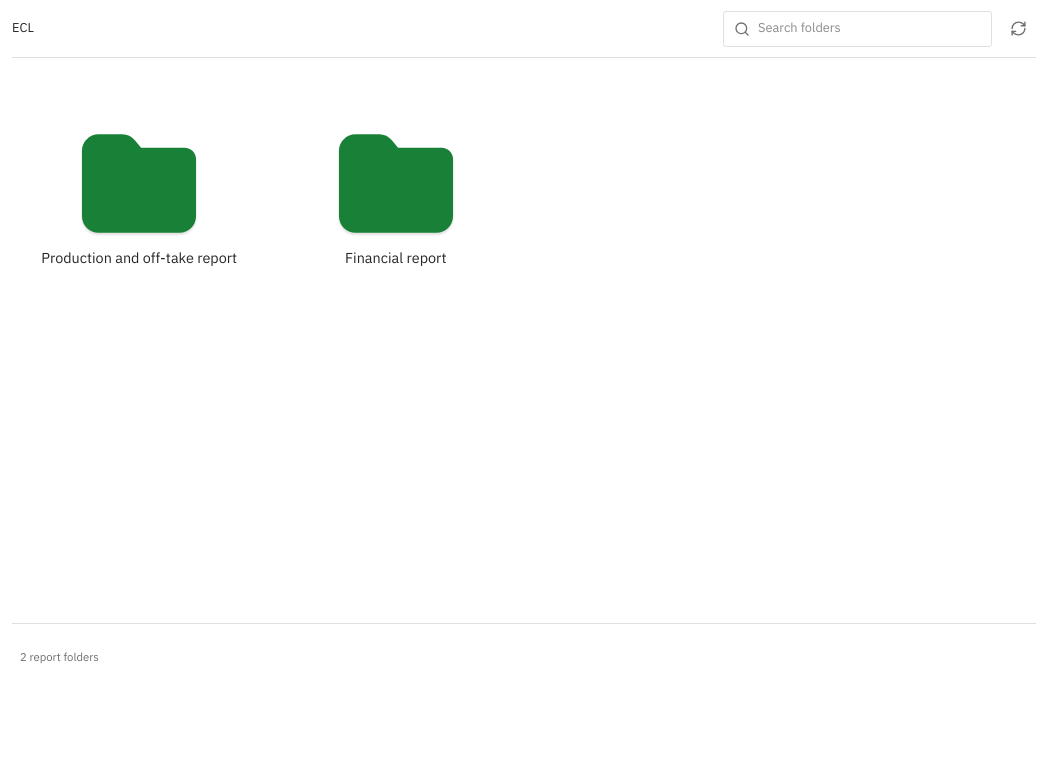
Test: version control expands files and filters by reporting cycle
The image size is (1048, 768).
Click the button "Production and off-take report": (139, 197) [20, 92, 258, 302]
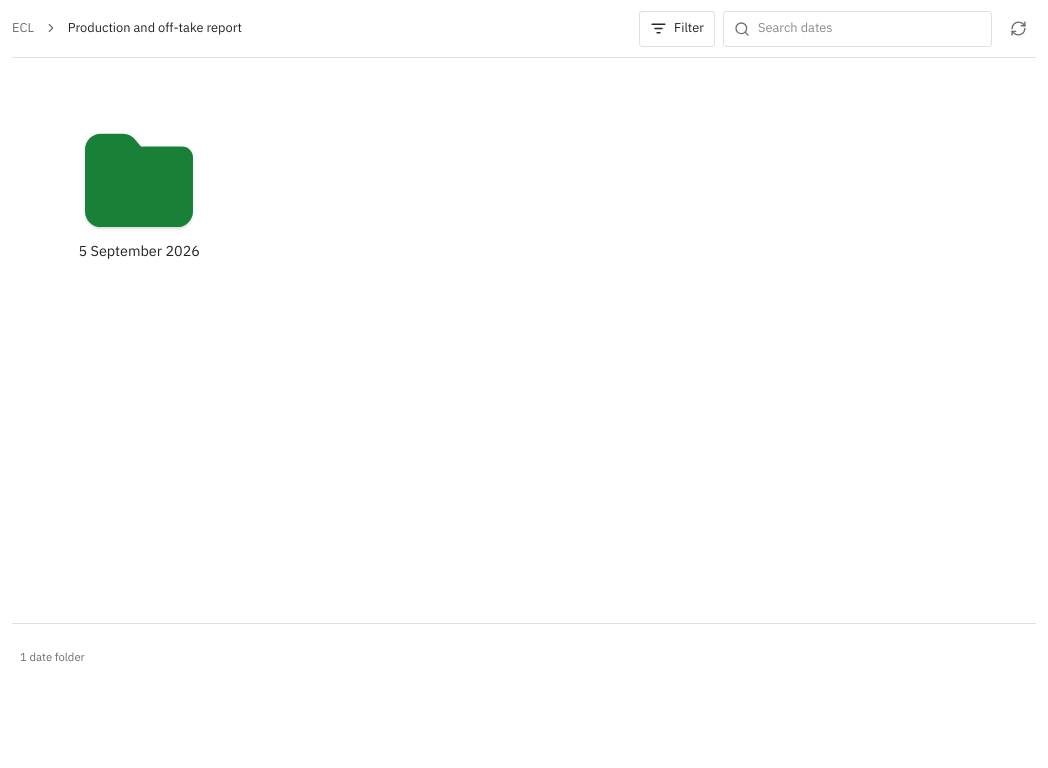
Click the button with aria-label "5 September 2026 2 versions": (139, 193) [20, 98, 258, 288]
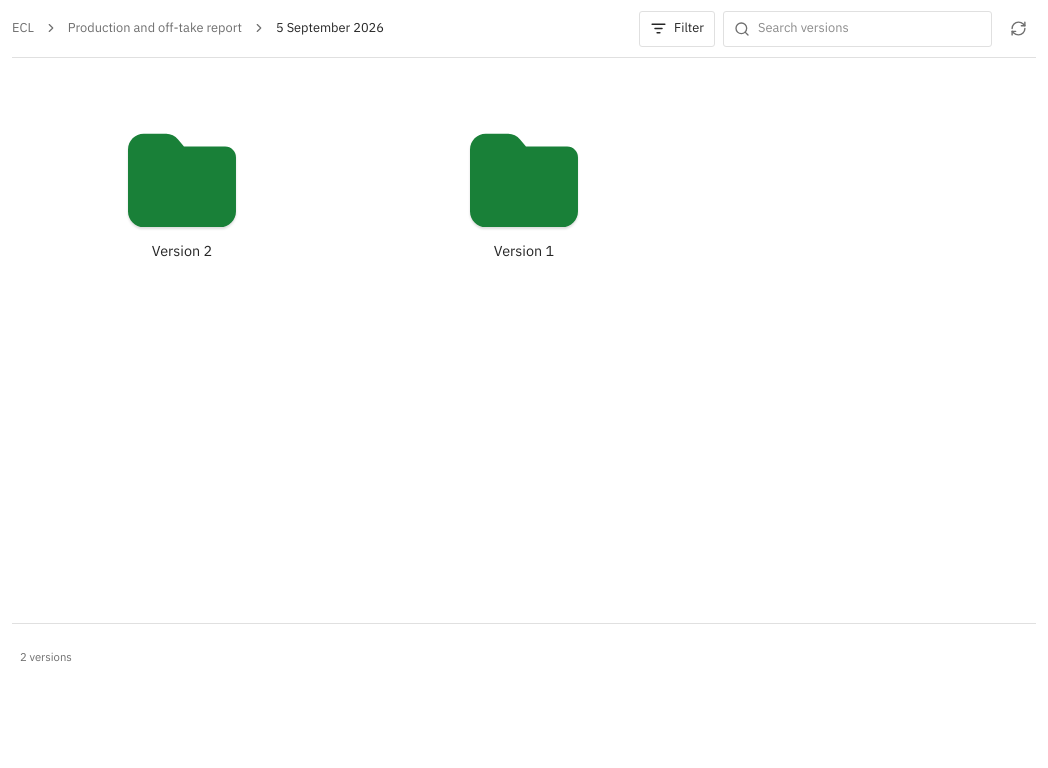
Now the text "Version 2" is shown 2 times, box [152, 241, 212, 260]; [494, 241, 554, 260]
Click the button "Version 2": (182, 193) [21, 99, 343, 287]
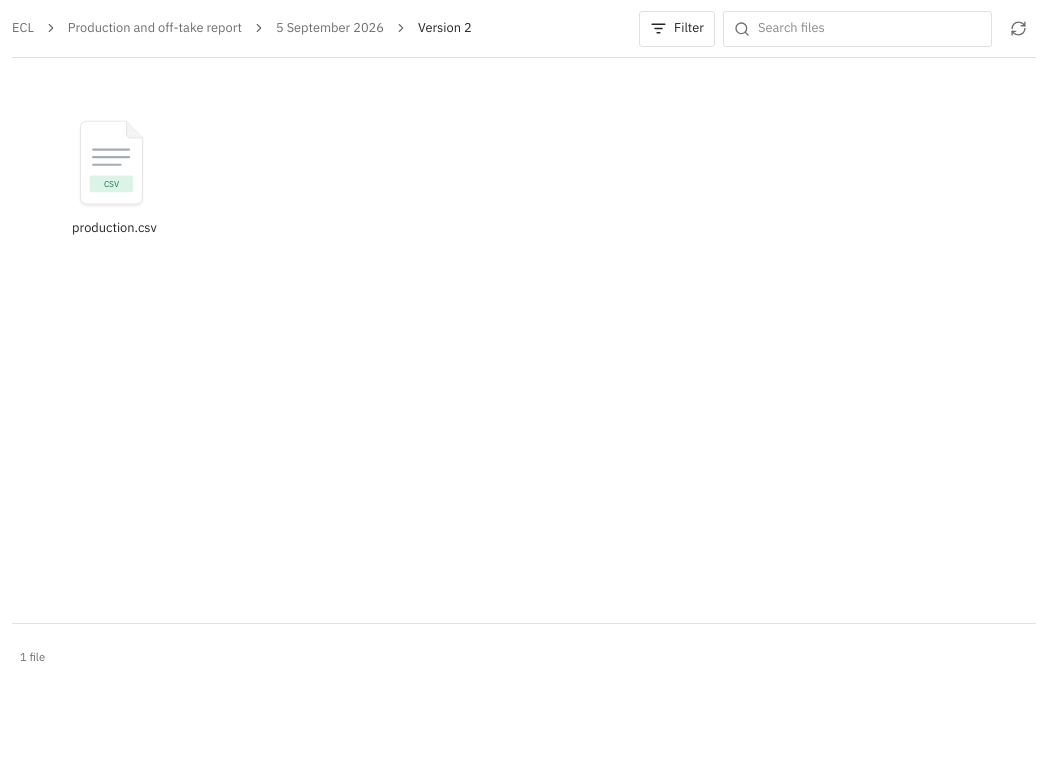
Now the text "production.csv" is shown, box [72, 219, 157, 237]
Click the heading "Filter": (677, 28) [639, 10, 715, 46]
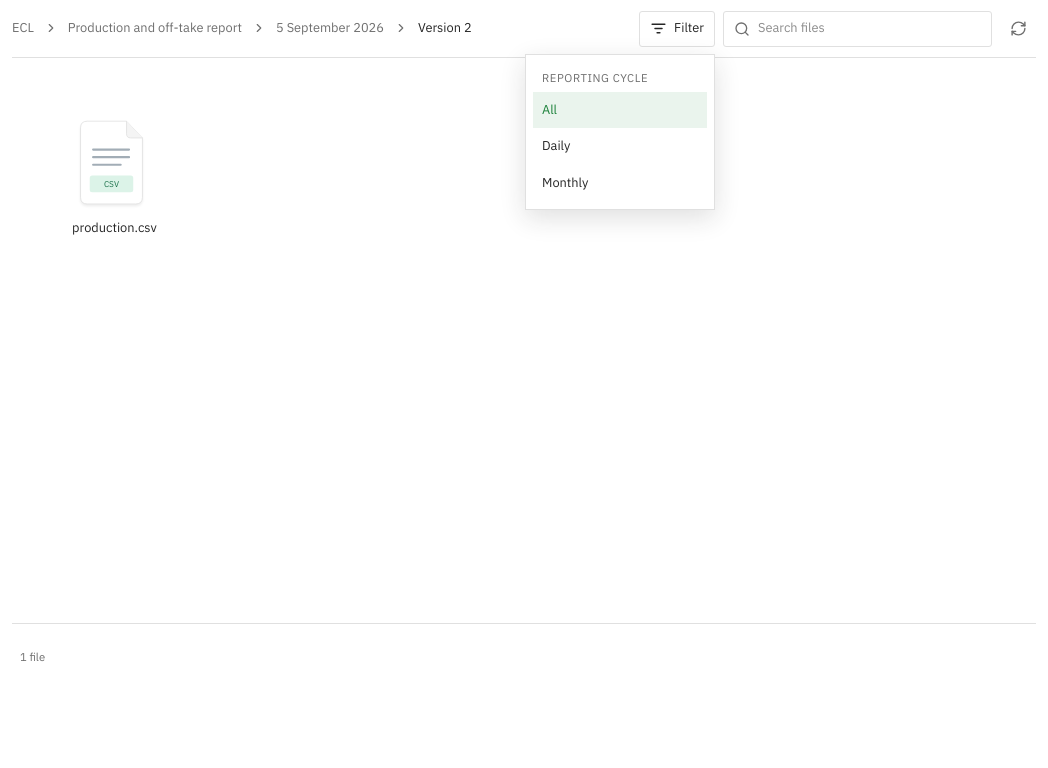
Click the button "Monthly": (620, 184) [533, 165, 707, 202]
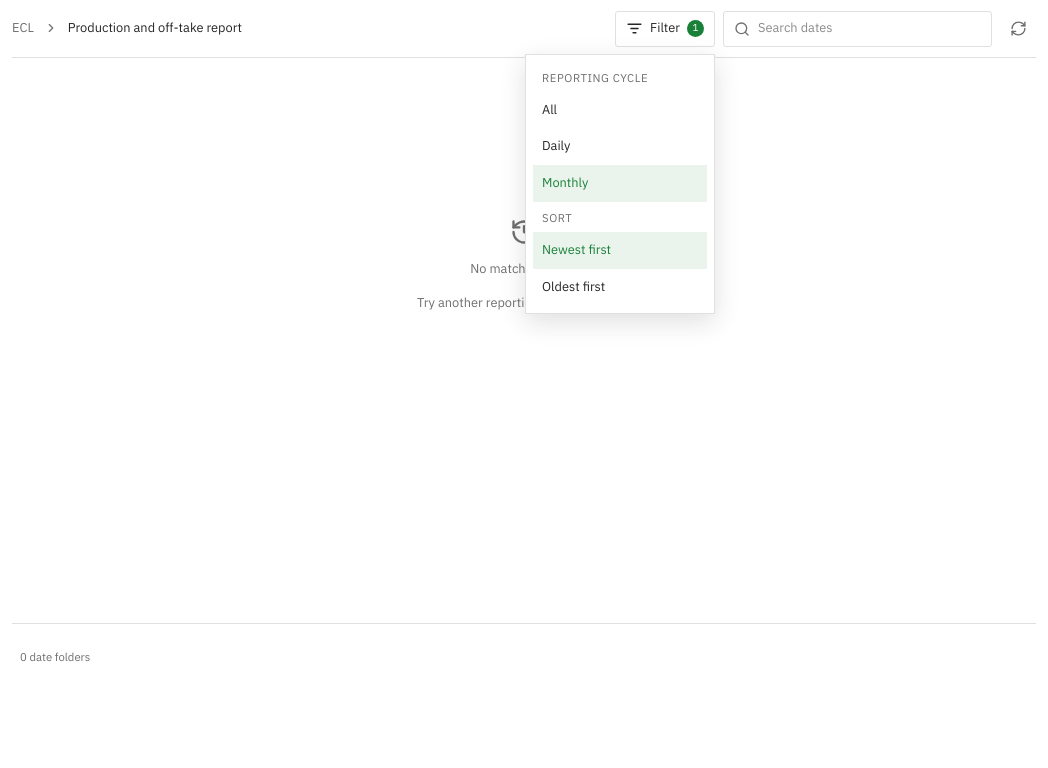
Now the text "No matching dates" is shown, box [470, 259, 578, 280]
